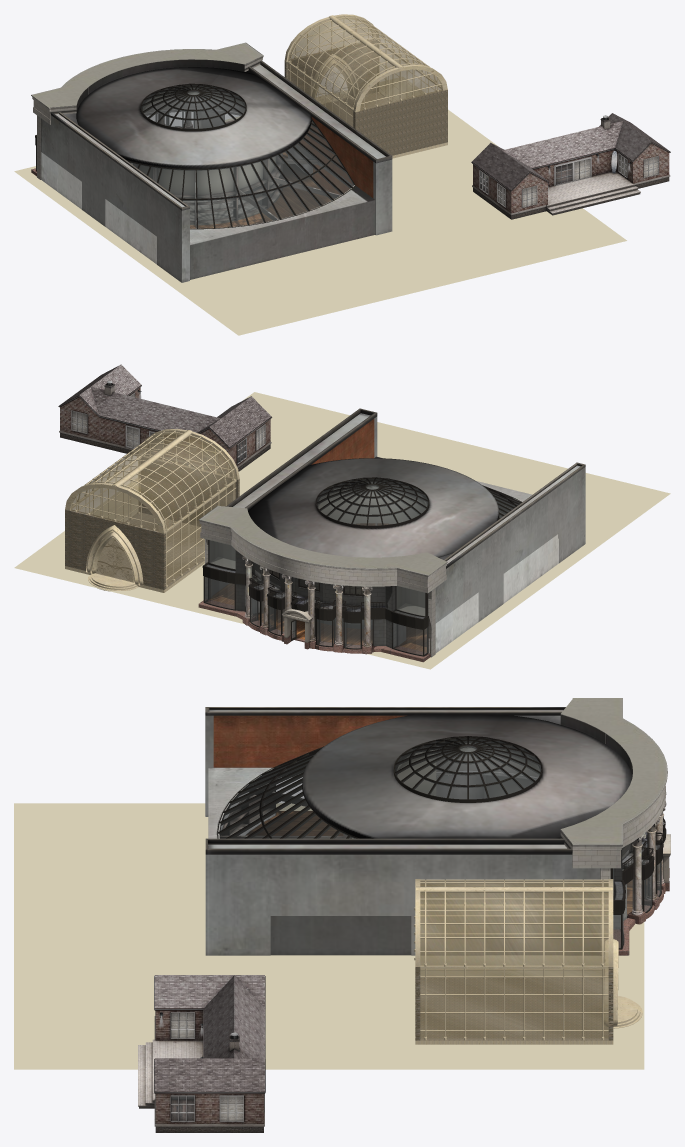
The picture shows the model from 3 angles, top to bottom: view 1: azimuth 30°, elevation 25°; view 2: azimuth 150°, elevation 25°; view 3: azimuth 270°, elevation 25°; orthographic projection. The views are drawn at different scales.
Parts seen in each view (by area): view 1: MESHWORX~Pearl Store v1 (ubODE) (×13), Terrain 9,5, SC - Elf Greenhouse - 01, prim0-mesh_0 (×9), House entrance wall left 02 (×2), Greenhouse - 02 - 15 x 20; view 2: MESHWORX~Pearl Store v1 (ubODE) (×22), Terrain 9,5, SC - Elf Greenhouse - 01, prim0-mesh_0 (×6), House entrance wall left 02 (×2), Greenhouse - 02 - 15 x 20, House entrance wall top of door; view 3: MESHWORX~Pearl Store v1 (ubODE) (×17), Terrain 9,5, SC - Elf Greenhouse - 01, prim0-mesh_0 (×10), Greenhouse - 02 - 15 x 20, Greenhouse - 01 (×2).
Part boxes in pixels (x1=…): MESHWORX~Pearl Store v1 (ubODE) (×13): x1=31, y1=42, x2=392, y2=282; Terrain 9,5: x1=14, y1=77, x2=626, y2=335; SC - Elf Greenhouse - 01: x1=284, y1=14, x2=447, y2=158; prim0-mesh_0 (×9): x1=471, y1=113, x2=670, y2=219; House entrance wall left 02 (×2): x1=284, y1=39, x2=378, y2=94; Greenhouse - 02 - 15 x 20: x1=288, y1=64, x2=352, y2=126; MESHWORX~Pearl Store v1 (ubODE) (×22): x1=198, y1=408, x2=585, y2=662; Terrain 9,5: x1=14, y1=392, x2=670, y2=669; SC - Elf Greenhouse - 01: x1=65, y1=428, x2=239, y2=592; prim0-mesh_0 (×6): x1=58, y1=364, x2=272, y2=475; House entrance wall left 02 (×2): x1=65, y1=509, x2=165, y2=589; Greenhouse - 02 - 15 x 20: x1=166, y1=482, x2=235, y2=584; House entrance wall top of door: x1=94, y1=515, x2=136, y2=550; MESHWORX~Pearl Store v1 (ubODE) (×17): x1=205, y1=698, x2=669, y2=955; Terrain 9,5: x1=14, y1=803, x2=644, y2=1069; SC - Elf Greenhouse - 01: x1=414, y1=879, x2=642, y2=1044; prim0-mesh_0 (×10): x1=138, y1=975, x2=265, y2=1132; Greenhouse - 02 - 15 x 20: x1=420, y1=908, x2=608, y2=975; Greenhouse - 01 (×2): x1=420, y1=904, x2=608, y2=968.
Size of the model in its own units: 79.37 by 15.31 by 66.71.
Materials: 94 (87 with a texture image).
